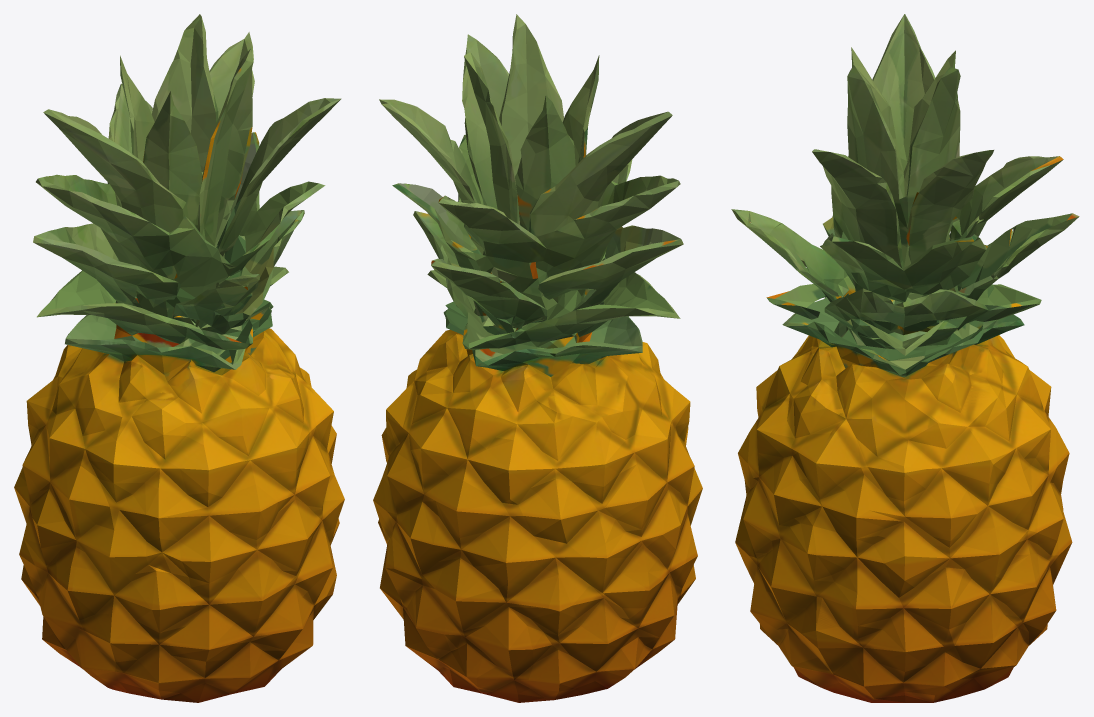
Rendered from gold-pineapple-1-each.glb.
3 renders of one model, left to right at view 1: azimuth 30°, elevation 25°; view 2: azimuth 150°, elevation 25°; view 3: azimuth 270°, elevation 25°, orthographic.
Parts seen in each view (by area): view 1: tmp5j3eimik.ply; view 2: tmp5j3eimik.ply; view 3: tmp5j3eimik.ply.
Boxes of the visible parts, x1,y1,x2,y2 form: tmp5j3eimik.ply: (14, 14, 344, 702); tmp5j3eimik.ply: (373, 14, 702, 702); tmp5j3eimik.ply: (731, 14, 1079, 702).
Bounding box in the file's own units: 0.958 × 2 × 0.9974.
1 material, 1 textured.
